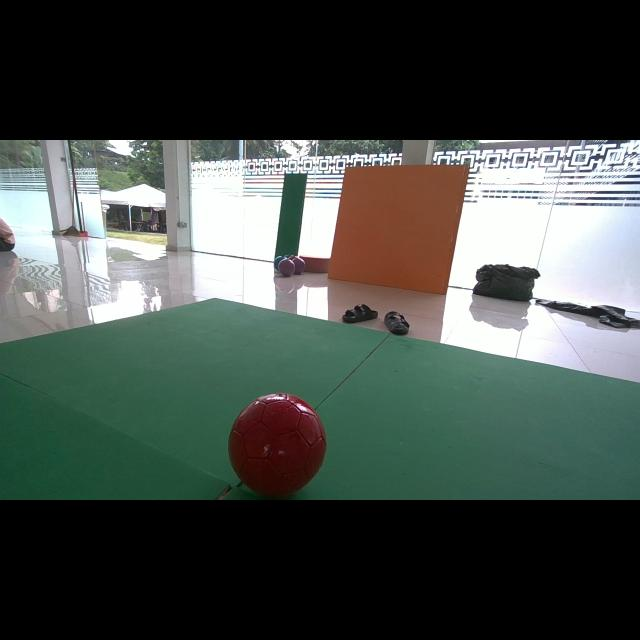B: (274, 256, 285, 270)
P: (278, 258, 295, 276), (292, 256, 305, 275)
R: (229, 392, 326, 497)
